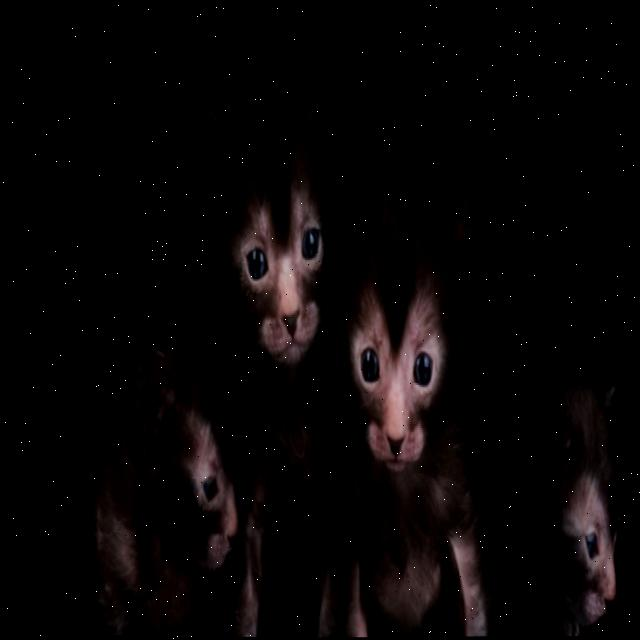Lykoi: (177, 44, 367, 639), (316, 154, 498, 638), (69, 288, 246, 638), (469, 316, 637, 637)
